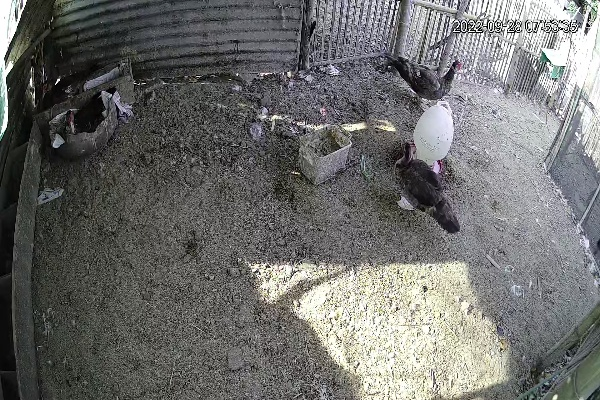Entog: (390, 140, 464, 239), (379, 50, 468, 104)
